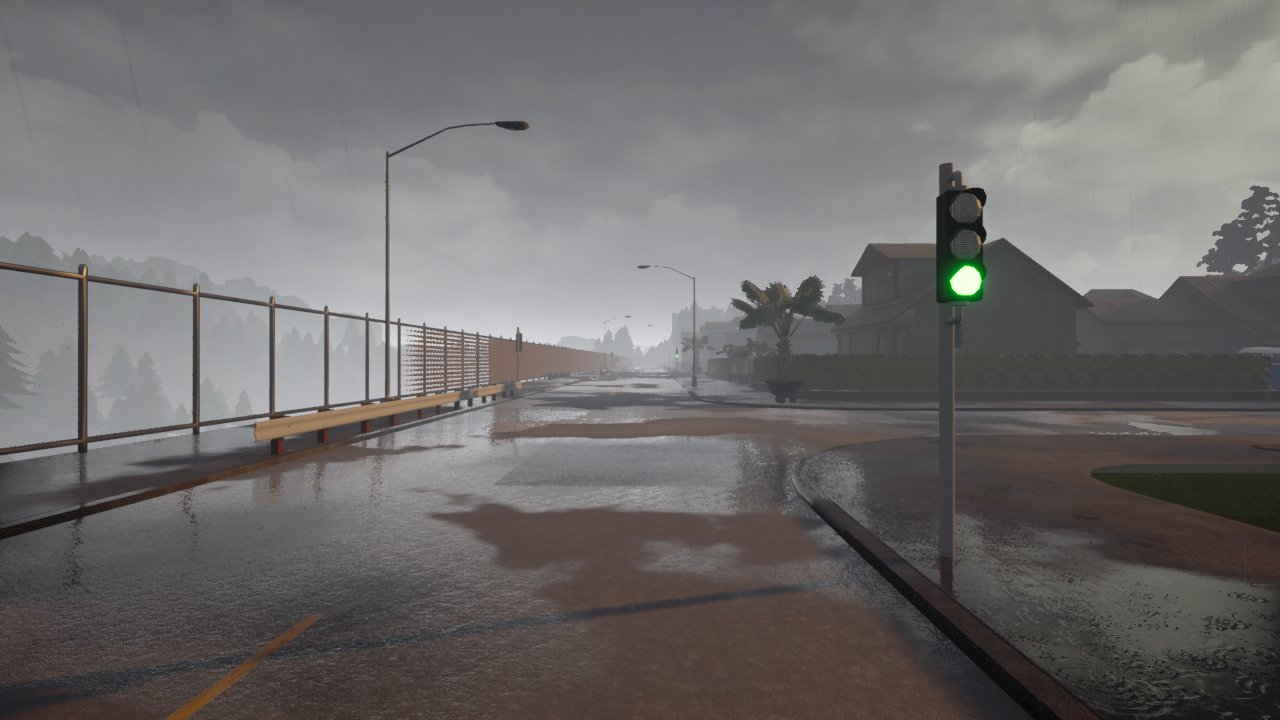green: (935, 185, 989, 302)
